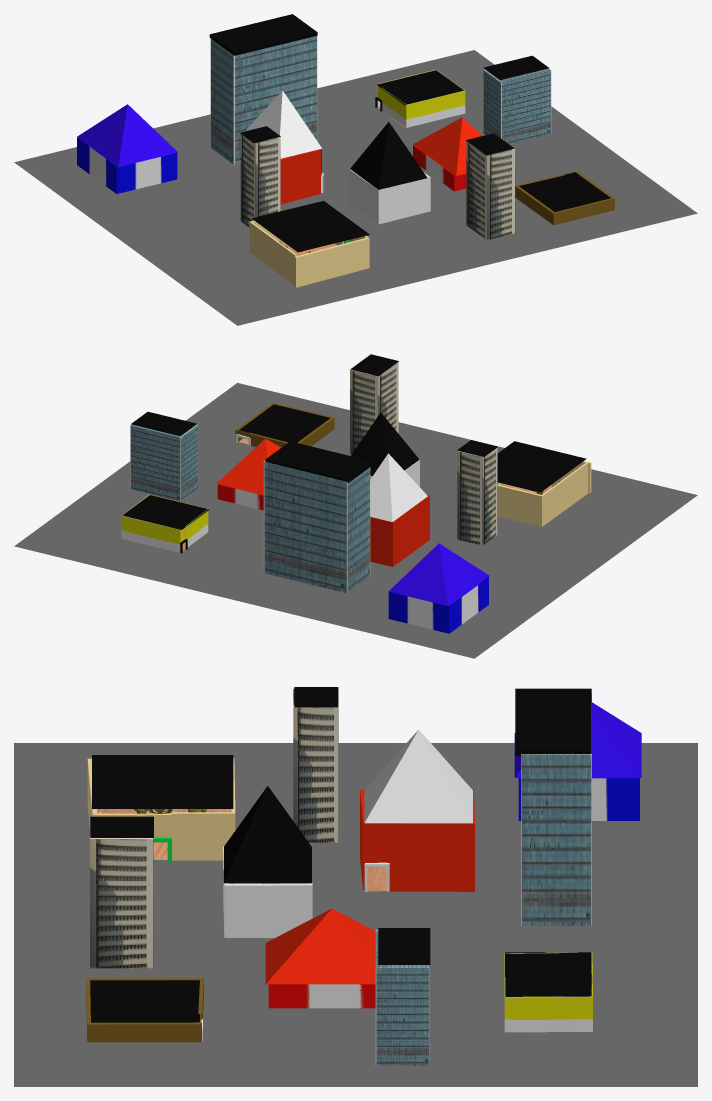
Rendered from ste.FBX.
3 views of the same model, one above another, from view 1: azimuth 30°, elevation 25°; view 2: azimuth 150°, elevation 25°; view 3: azimuth 270°, elevation 25° (orthographic). The views are drawn at different scales.
Visible parts, largest first — view 1: Plane001, Box060, Box059, Box056, Box052, Pyramid002, Box057, Wall001, Box081, Pyramid003, Wall005, Box061 (+11 smaller); view 2: Plane001, Box060, Box059, Box057, Pyramid002, Wall006, Box056, Box052, Box081, Wall009, Pyramid004, Box061 (+9 smaller); view 3: Plane001, Box060, Box056, Box052, Pyramid004, Pyramid005, Wall009, Box057, Pyramid003, Box059, Box061, Box055 (+14 smaller).
Boxes of the visible parts, <box> form: Plane001: <box>14,50,697,325</box>; Box060: <box>210,36,317,164</box>; Box059: <box>483,68,551,144</box>; Box056: <box>466,141,515,240</box>; Box052: <box>252,201,369,252</box>; Pyramid002: <box>77,104,177,166</box>; Box057: <box>240,134,280,227</box>; Wall001: <box>349,169,430,224</box>; Box081: <box>77,137,177,193</box>; Pyramid003: <box>350,122,427,189</box>; Wall005: <box>294,236,369,287</box>; Box061: <box>209,14,317,55</box>; Plane001: <box>14,383,697,658</box>; Box060: <box>263,460,370,593</box>; Box059: <box>130,424,197,501</box>; Box057: <box>457,447,497,545</box>; Pyramid002: <box>388,543,489,605</box>; Wall006: <box>497,462,588,526</box>; Box056: <box>350,362,398,454</box>; Box052: <box>497,441,586,492</box>; Box081: <box>388,577,488,633</box>; Wall009: <box>370,494,429,566</box>; Pyramid004: <box>370,453,427,521</box>; Box061: <box>265,441,373,482</box>; Plane001: <box>14,743,697,1086</box>; Box060: <box>521,693,591,925</box>; Box056: <box>90,818,153,968</box>; Box052: <box>92,755,233,808</box>; Pyramid004: <box>364,729,472,823</box>; Pyramid005: <box>265,908,375,984</box>; Wall009: <box>360,790,474,891</box>; Box057: <box>293,688,338,842</box>; Pyramid003: <box>223,786,311,883</box>; Box059: <box>375,930,429,1065</box>; Box061: <box>515,688,591,755</box>; Box055: <box>90,980,199,1022</box>.
Bounding box in the file's own units: 7965 × 6694 × 1920.
